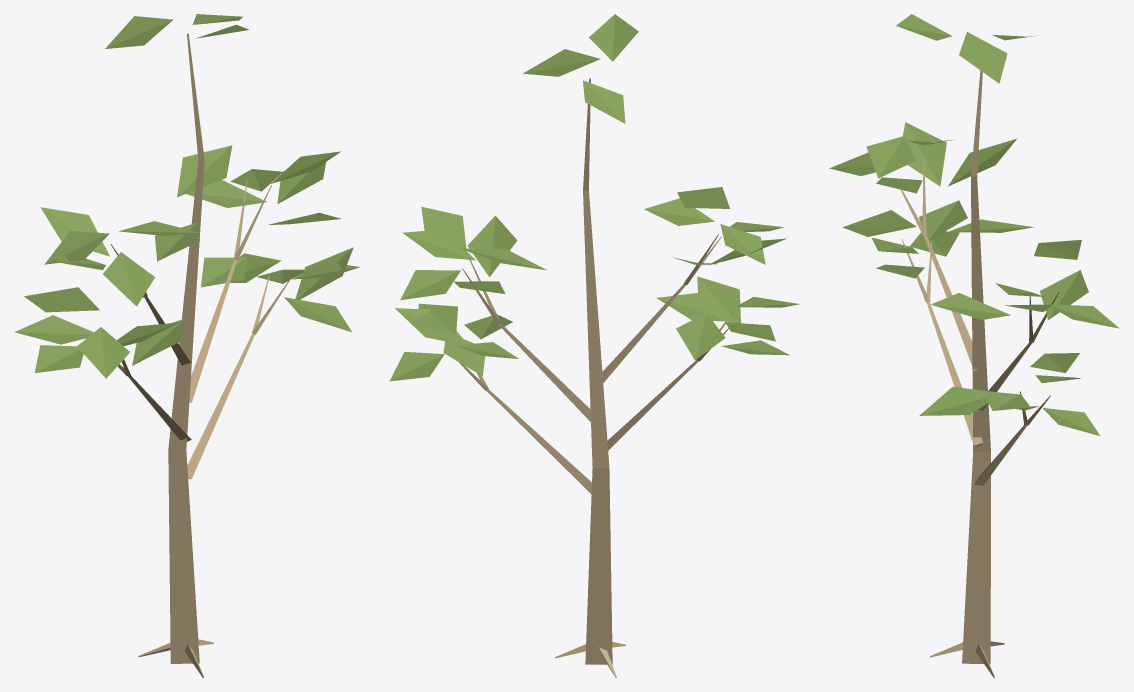
Rendered from birch-sapling-lod2.glb.
3 renders of one model, left to right at view 1: azimuth 30°, elevation 25°; view 2: azimuth 150°, elevation 25°; view 3: azimuth 270°, elevation 25°, orthographic. The views are drawn at different scales.
Parts seen in each view (by area): view 1: understory_birch-sapling_LOD2; view 2: understory_birch-sapling_LOD2; view 3: understory_birch-sapling_LOD2.
Part boxes in pixels (<box>): understory_birch-sapling_LOD2: <box>14,14,360,677</box>; understory_birch-sapling_LOD2: <box>390,14,800,677</box>; understory_birch-sapling_LOD2: <box>829,14,1119,677</box>.
Bounding box in the file's own units: 1.49 × 2.49 × 1.02.
